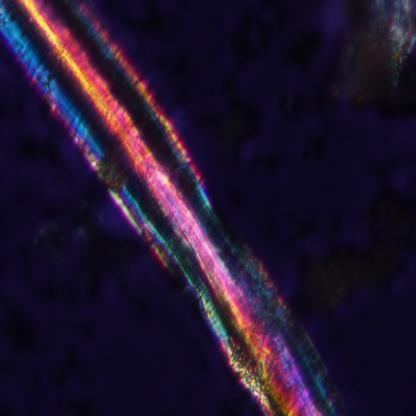Microfibre: (0, 0, 338, 413)
